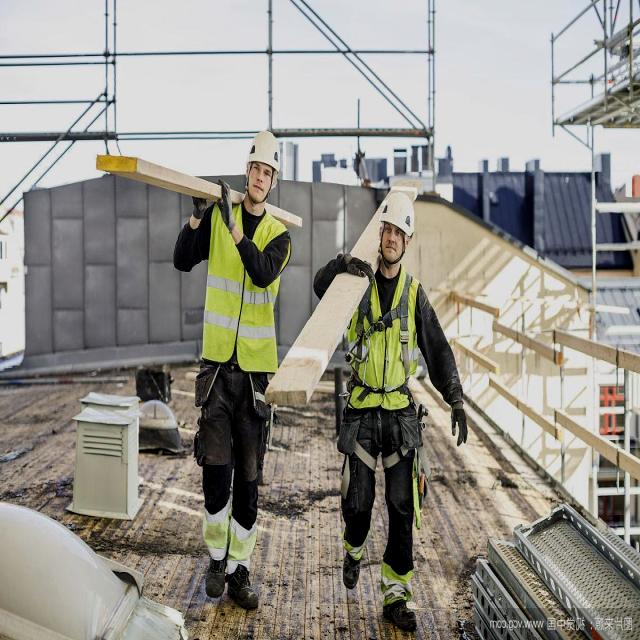hand_noglove: (376, 219, 407, 267)
head_helmet: (374, 194, 417, 223), (244, 130, 279, 163)
person: (193, 128, 290, 606), (334, 185, 434, 628)
shoes: (223, 558, 263, 616), (379, 591, 422, 640), (202, 538, 231, 601), (336, 535, 366, 591)
vest: (200, 203, 280, 354), (342, 276, 417, 414)
